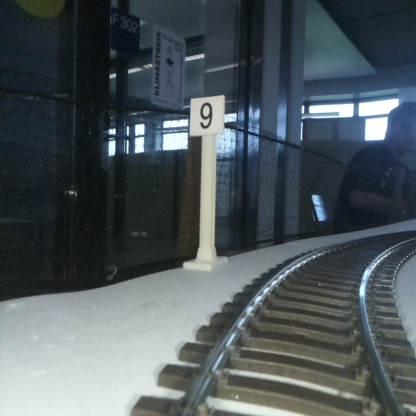white-info-9: (190, 96, 224, 267)
